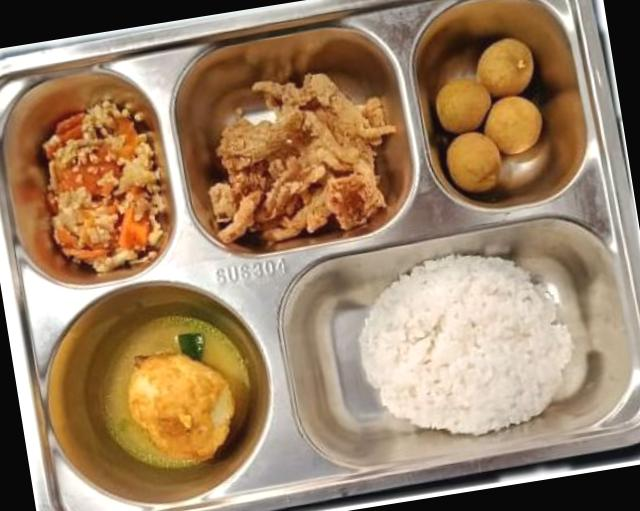buah: (436, 38, 542, 193)
nasi: (359, 254, 573, 435)
sayur: (42, 100, 167, 273)
tahu: (209, 73, 396, 243)
telur: (128, 353, 236, 462)
